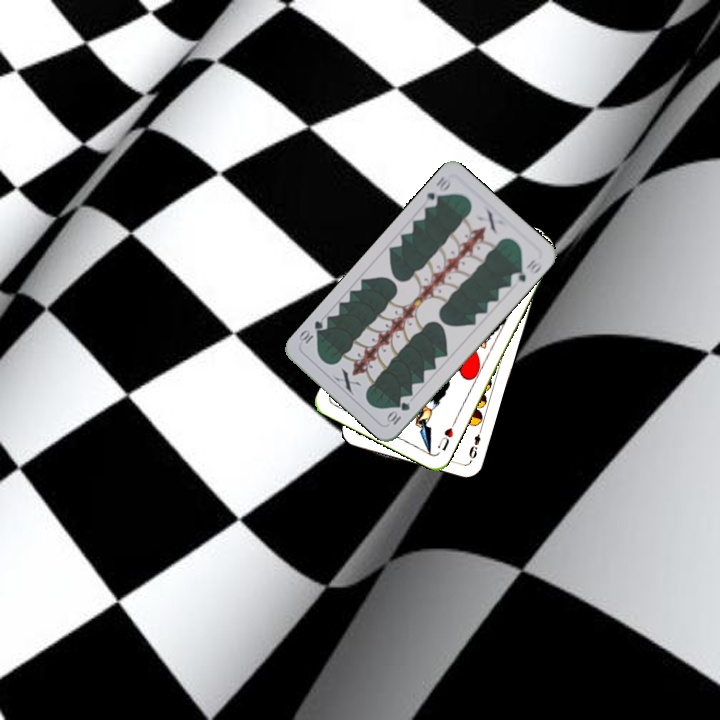E9: (465, 423, 485, 461)
G10: (422, 173, 453, 210), (383, 398, 413, 427)
HU: (433, 418, 458, 453)
